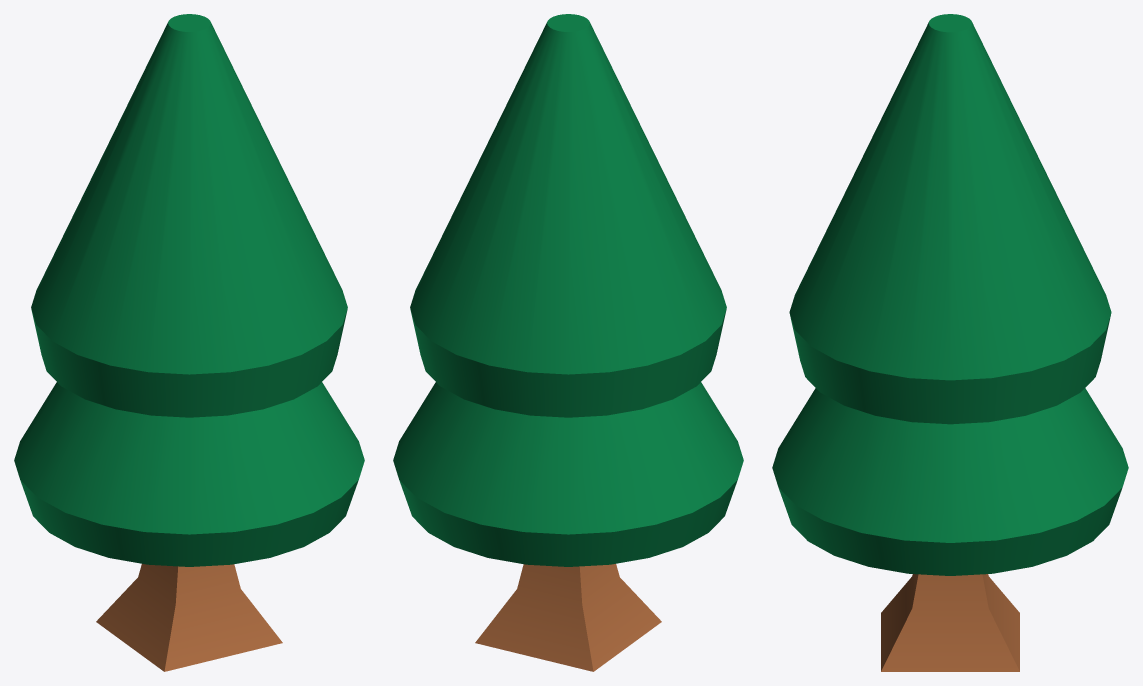
Rendered from treePineSmall.glb.
3 views of the same model, side by side, from view 1: azimuth 30°, elevation 25°; view 2: azimuth 150°, elevation 25°; view 3: azimuth 270°, elevation 25° (orthographic).
Parts seen in each view (by area): view 1: treePineSmall; view 2: treePineSmall; view 3: treePineSmall.
Part boxes in pixels (box(x1,y1,x2,y2)): treePineSmall: box(14, 14, 364, 671); treePineSmall: box(393, 14, 743, 671); treePineSmall: box(772, 14, 1128, 671).
Size of the model in its own units: 0.7114 by 1.36 by 0.7114.
